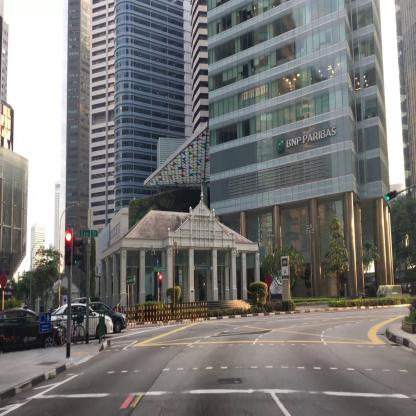red_traffic_light: (65, 232, 71, 264)
